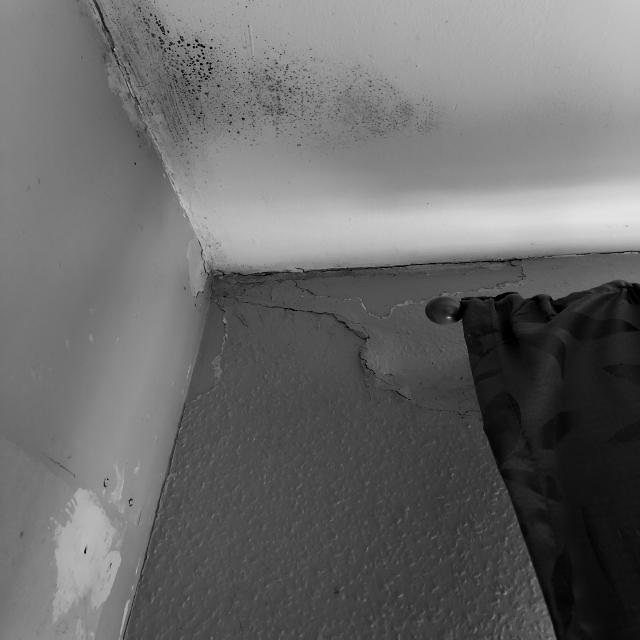peeling paint: (286, 259, 545, 335)
stain marks: (84, 0, 462, 174), (176, 218, 352, 310)
